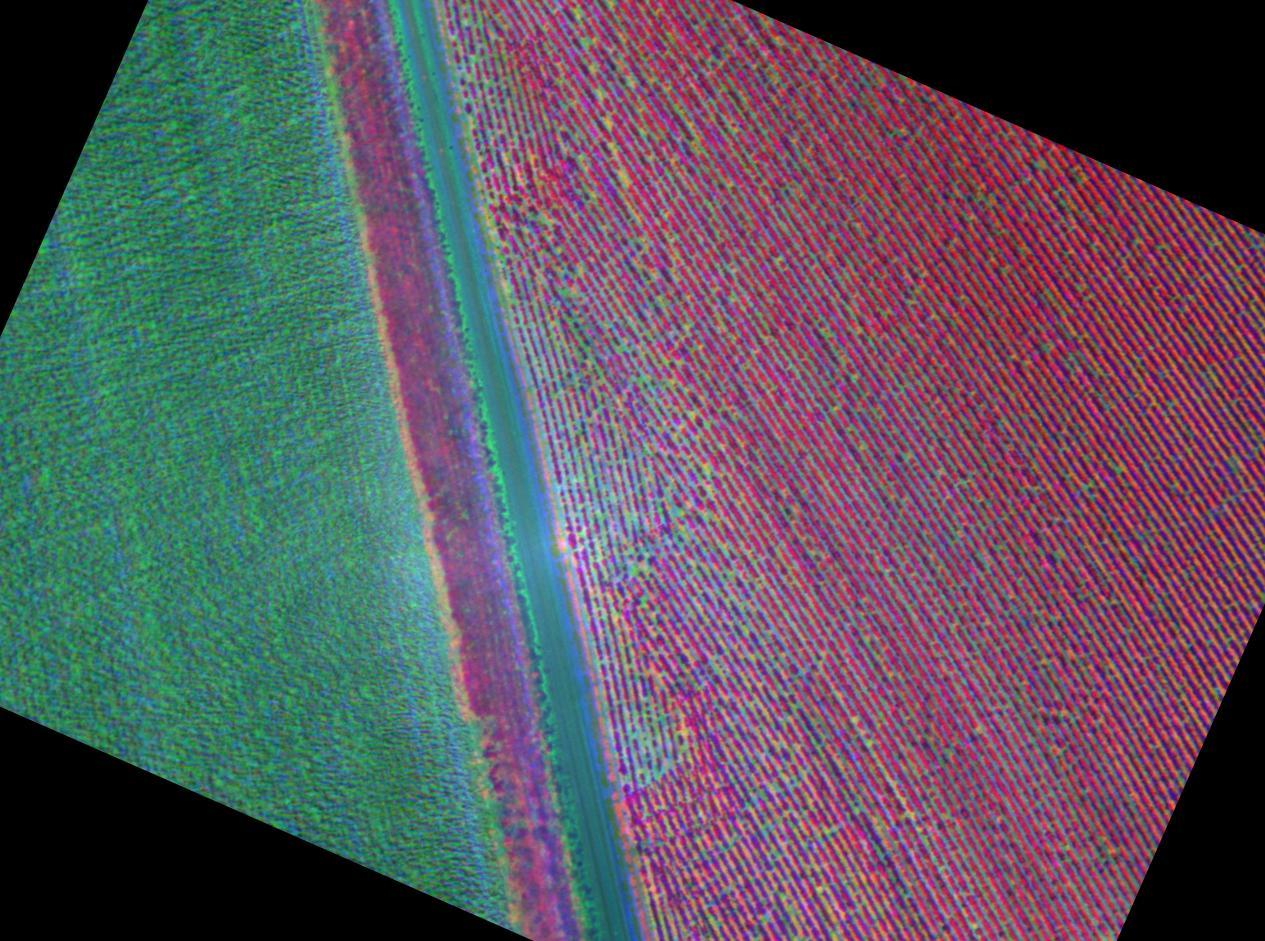dc: (620, 172, 627, 181), (672, 505, 678, 515), (595, 91, 601, 98), (598, 515, 603, 520), (747, 626, 752, 631), (664, 359, 668, 365), (554, 250, 558, 255), (617, 348, 621, 352), (851, 377, 855, 381), (791, 705, 795, 709), (866, 741, 870, 745), (1084, 486, 1087, 490)
